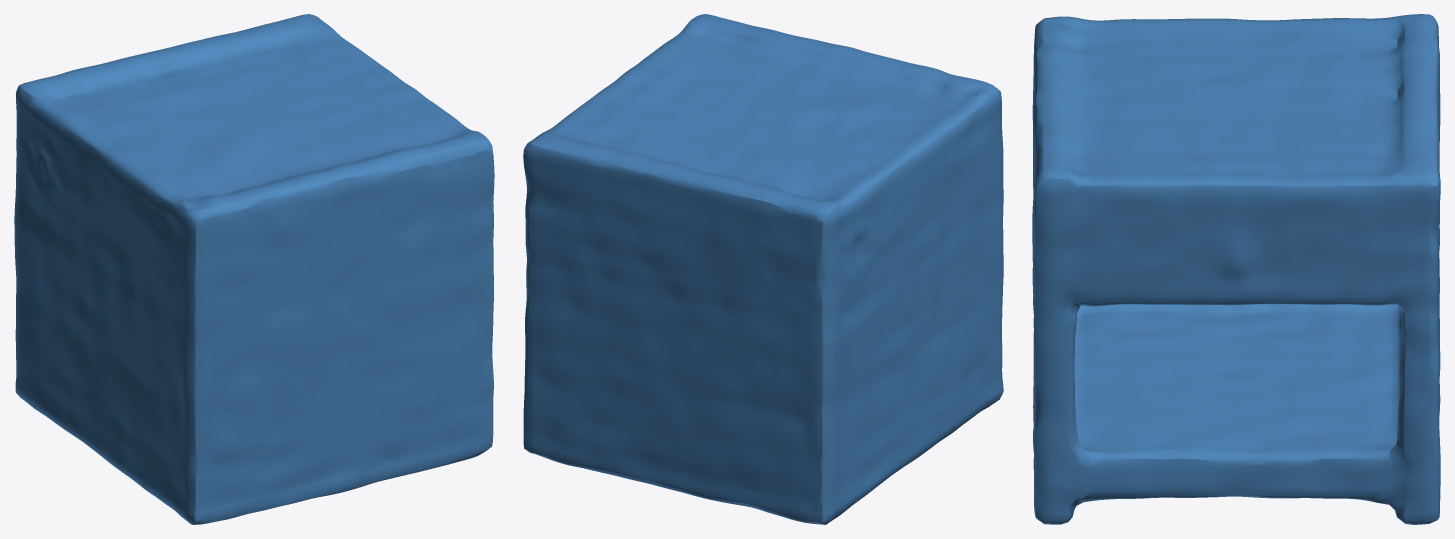
The model's file is nightstand_8_3.obj.
3 views of the same model, side by side, from view 1: azimuth 30°, elevation 25°; view 2: azimuth 150°, elevation 25°; view 3: azimuth 270°, elevation 25° (orthographic). The views are drawn at different scales.
Bounding box in the file's own units: 0.7801 × 0.7703 × 0.796.
